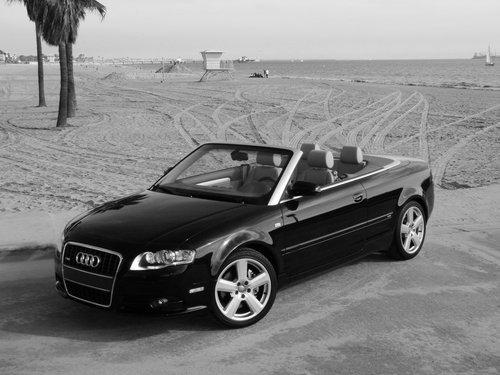car: (54, 140, 437, 332)
